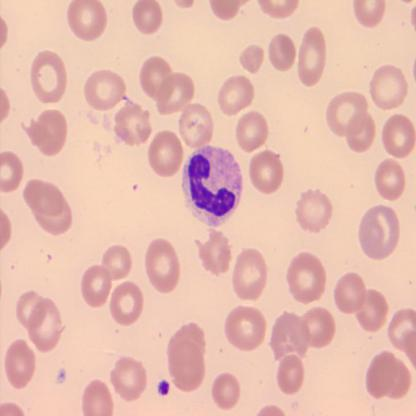Band Neutrophil: (182, 142, 243, 225)
